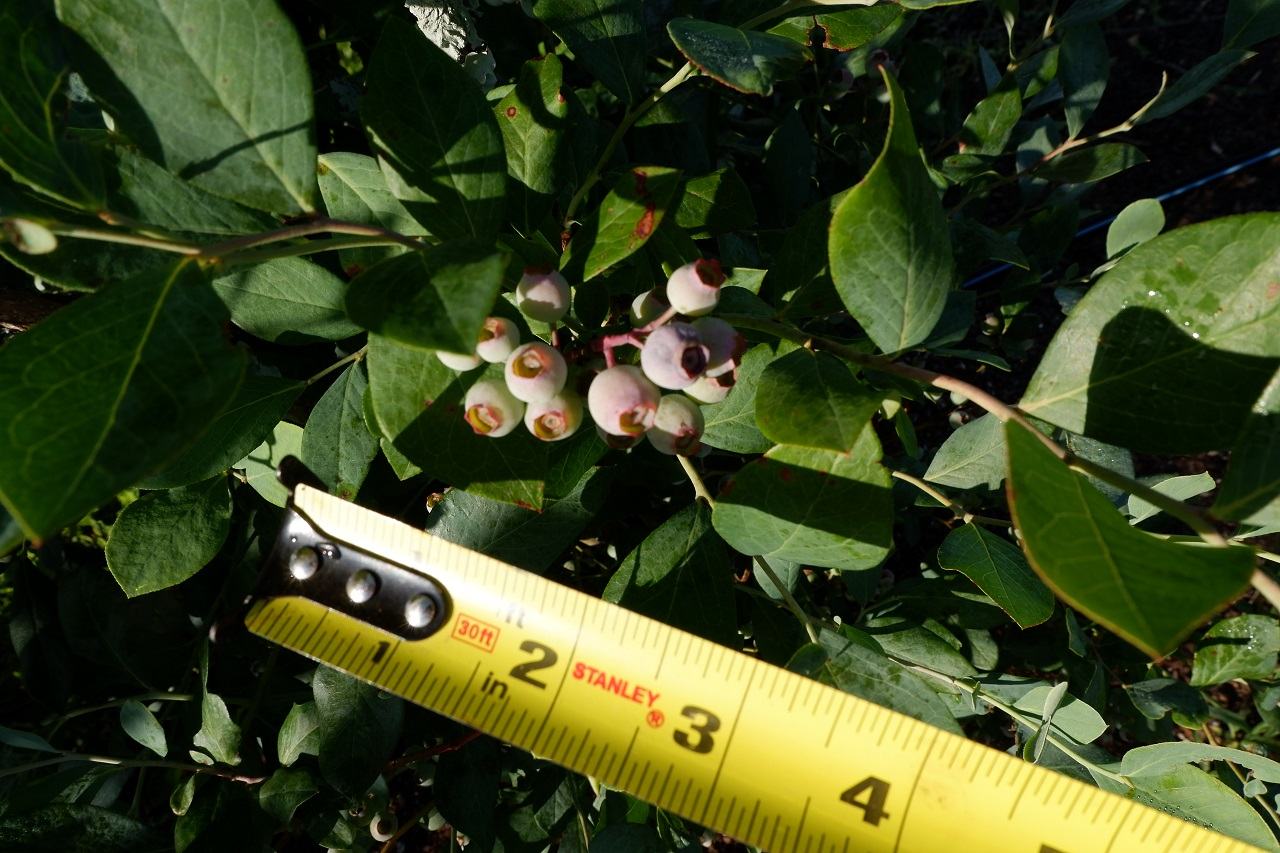Immature: (588, 365, 661, 437), (640, 321, 711, 390), (504, 342, 567, 403), (646, 394, 705, 457), (464, 379, 525, 438), (690, 316, 748, 378), (666, 257, 726, 316), (523, 386, 584, 441), (515, 266, 571, 323), (475, 317, 521, 363), (683, 369, 738, 405), (631, 285, 672, 328), (596, 423, 646, 450), (434, 350, 485, 371), (696, 442, 712, 457)
